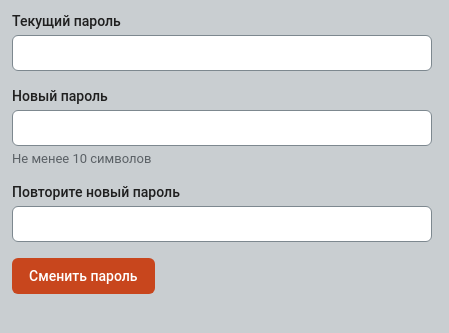
Test: PasswordChangeForm › слабый пароль (короче политики сервера) — ошибка у поля, запроса нет
Expected: the text "Не менее 10 символов" is shown, [12,151,151,166]
In the password field labelled "Текущий пароль": point(222, 53) [12,35,432,71], type "student112"
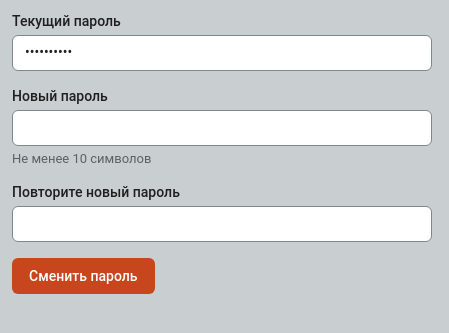
In the password field labelled "Новый пароль": point(222, 128) [12,110,432,146], type "короткий1"
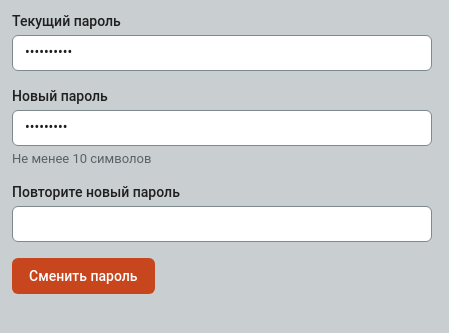
In the password field labelled "Повторите новый пароль": point(222, 224) [12,206,432,242], type "короткий1"
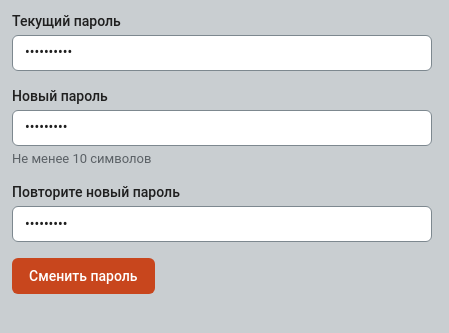
Click the button "Сменить пароль": point(83, 276) [12,258,154,294]
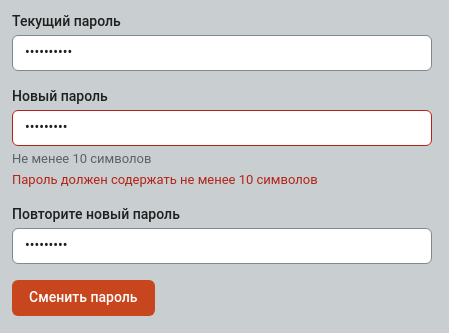
Now the text "Пароль должен содержать не менее 10 символов" is shown, box [12,172,318,187]
